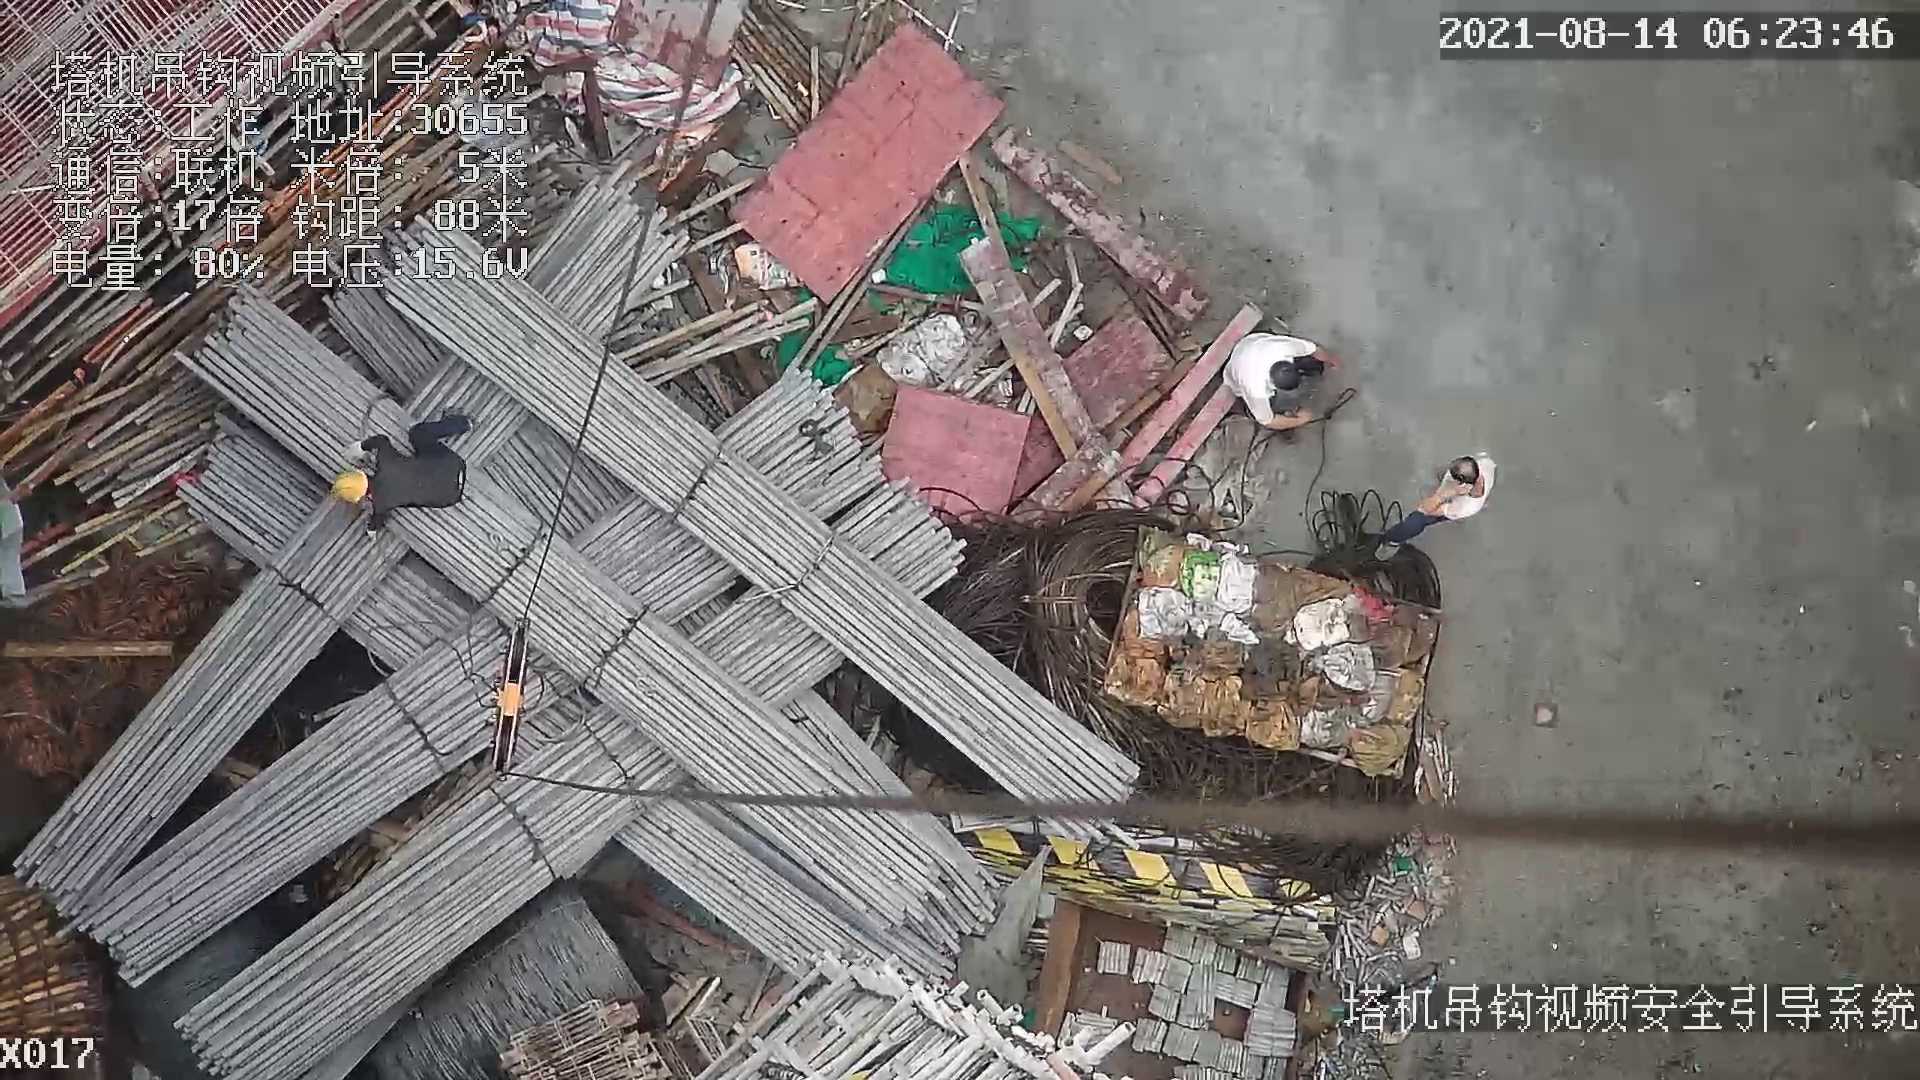helmet: (330, 469, 369, 503)
hook: (497, 608, 532, 785)
person: (331, 406, 476, 540), (1372, 453, 1522, 564), (1224, 330, 1345, 428)
rebar: (173, 289, 967, 931), (375, 283, 1140, 847), (168, 701, 688, 1080), (66, 612, 577, 995), (12, 512, 393, 916)
wood: (1, 879, 108, 1027)
